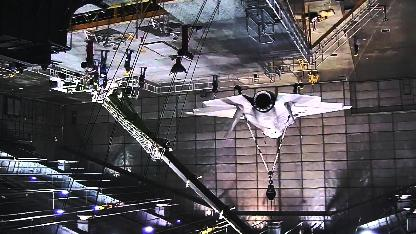F22: (184, 84, 352, 140)
